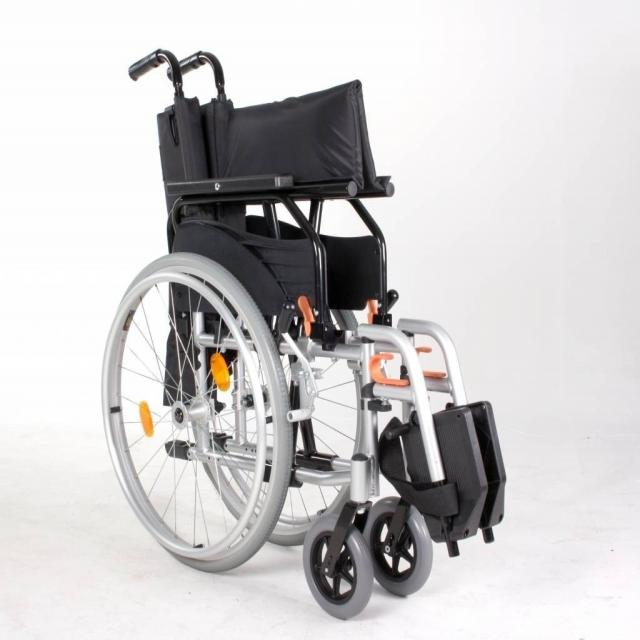wheelchair: (90, 40, 525, 630)
